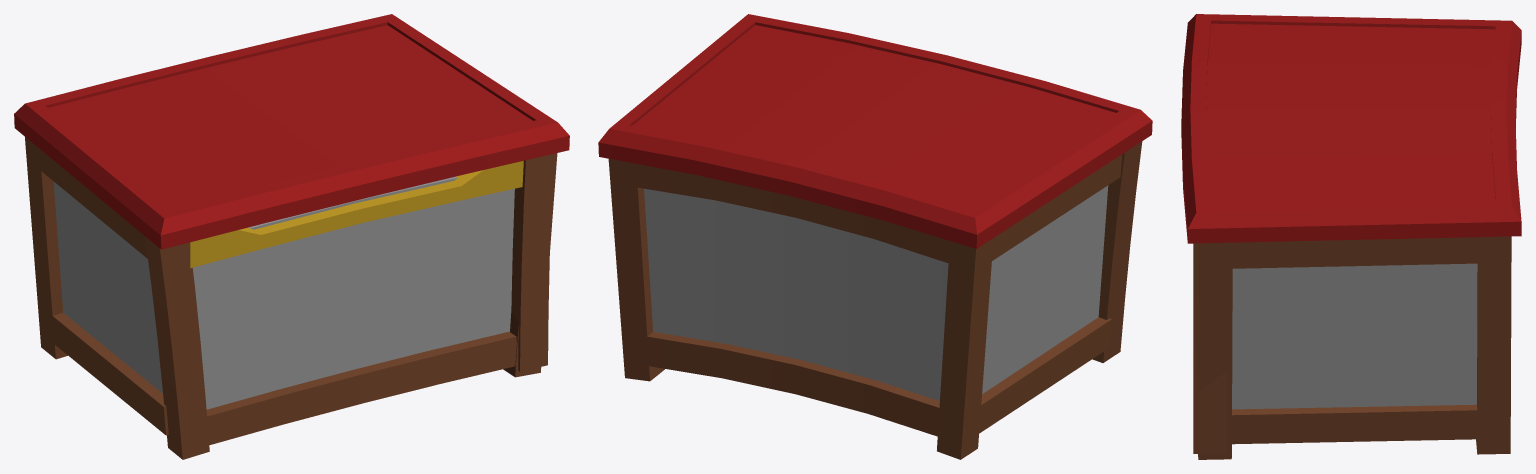
File: Toybox.FBX
3 views of the same model, side by side, from view 1: azimuth 30°, elevation 25°; view 2: azimuth 150°, elevation 25°; view 3: azimuth 270°, elevation 25° (orthographic). The views are drawn at different scales.
Parts seen in each view (by area): view 1: Box019; view 2: Box019; view 3: Box019.
Part boxes in pixels (box(x1,y1,x2,y2)): Box019: box(14, 14, 569, 459); Box019: box(598, 14, 1152, 459); Box019: box(1181, 14, 1521, 459).
Size of the model in its own units: 28.77 by 16.9 by 20.03.
